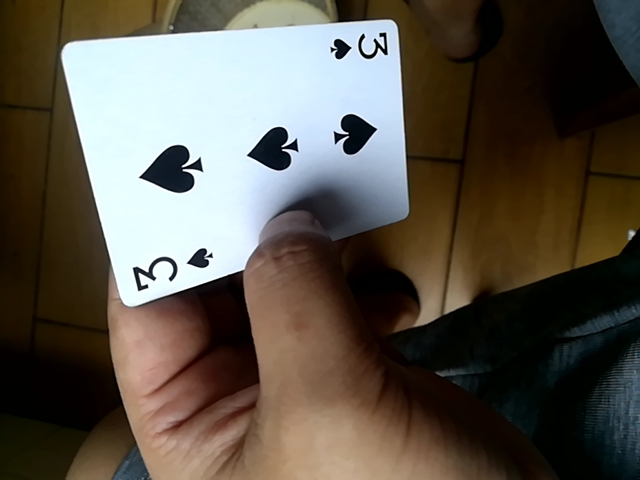ht 3: (61, 19, 407, 314)
